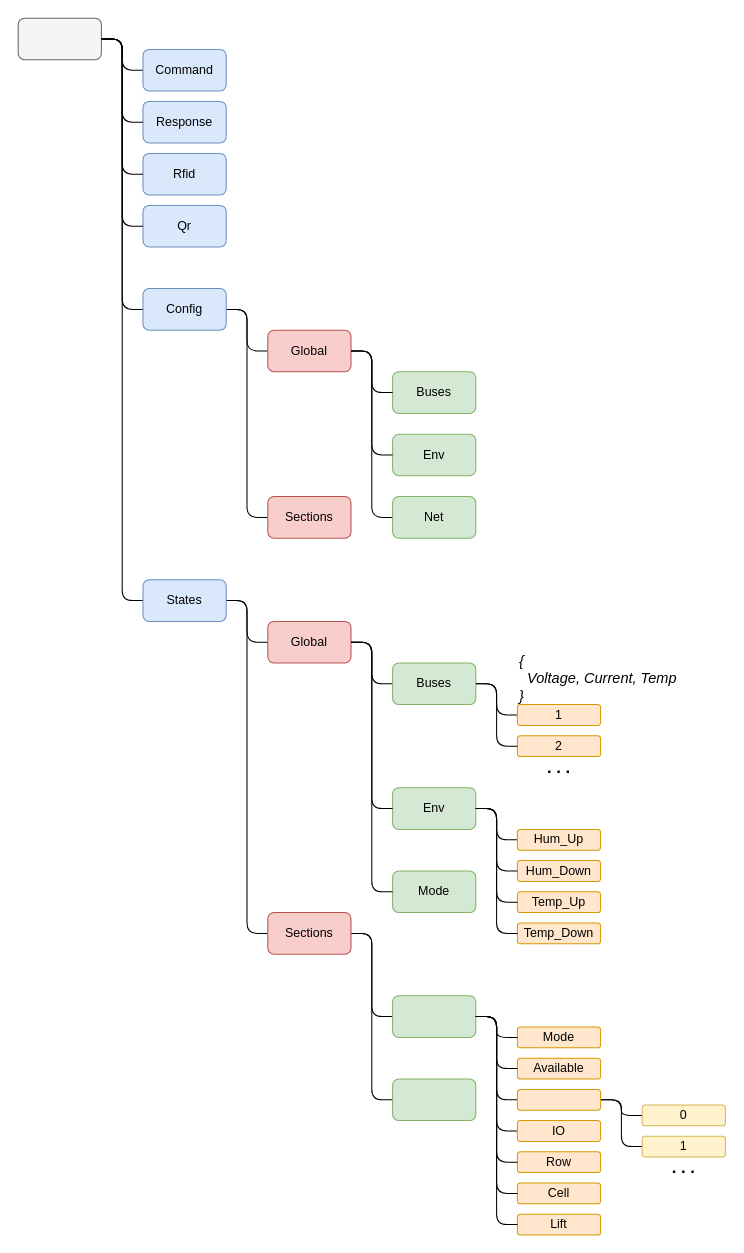
The diagram is 744 pixels wide and 1253 high, and some of its shapes have lost their labels. Here are the shapes that lost their labels. From the top down, the centre of each, then its label:
At (59,38): "Machine".
At (434,1016): "Spiral".
At (434,1099): "Post".
At (558,1099): "Cells".
